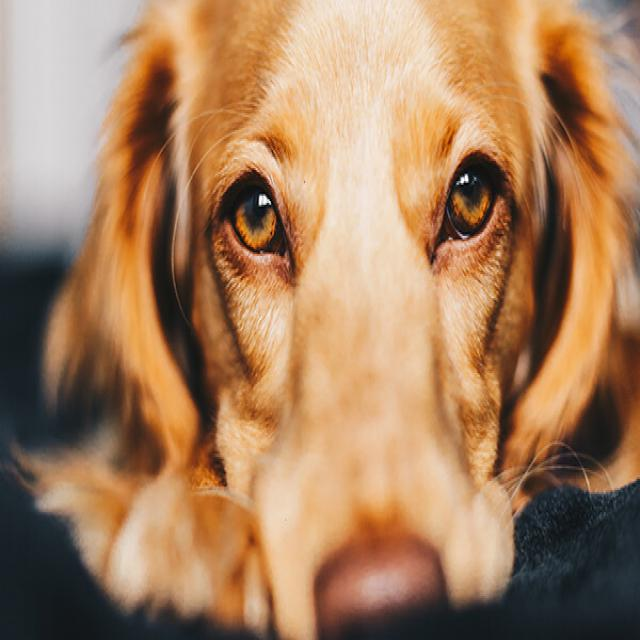eye: (218, 164, 293, 268), (432, 146, 505, 247)
